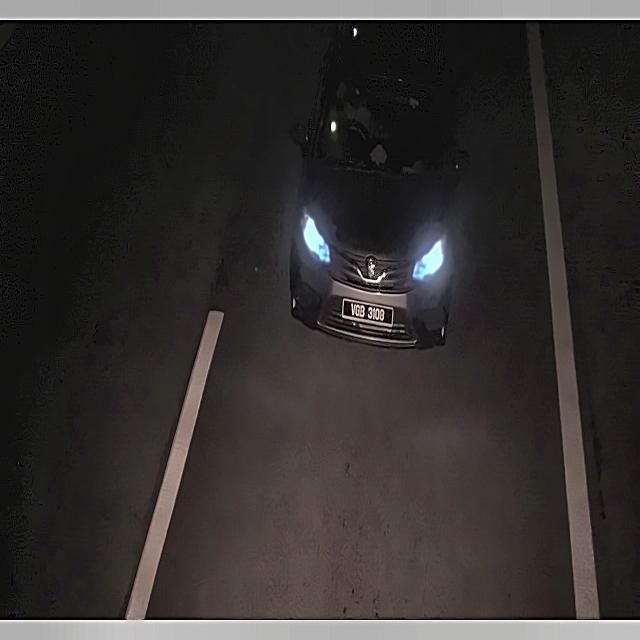car: (338, 291, 404, 336)
